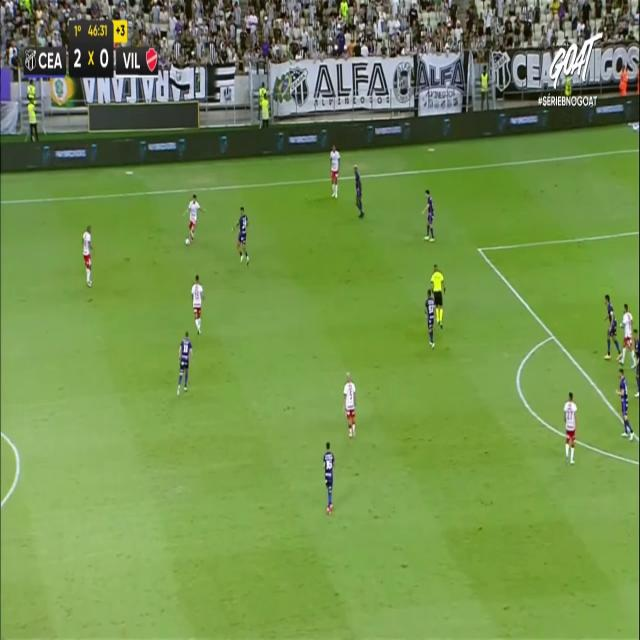ball: (184, 233, 190, 248)
player: (615, 366, 634, 440), (182, 193, 206, 245), (603, 293, 621, 359), (231, 206, 249, 266), (176, 330, 192, 396), (563, 390, 577, 464), (342, 371, 356, 437), (622, 302, 635, 372), (323, 440, 335, 514), (191, 274, 205, 334), (82, 224, 94, 287), (421, 188, 435, 241), (424, 288, 436, 348), (352, 164, 364, 218), (631, 324, 640, 395), (329, 142, 340, 198)
referee: (430, 262, 446, 329)
